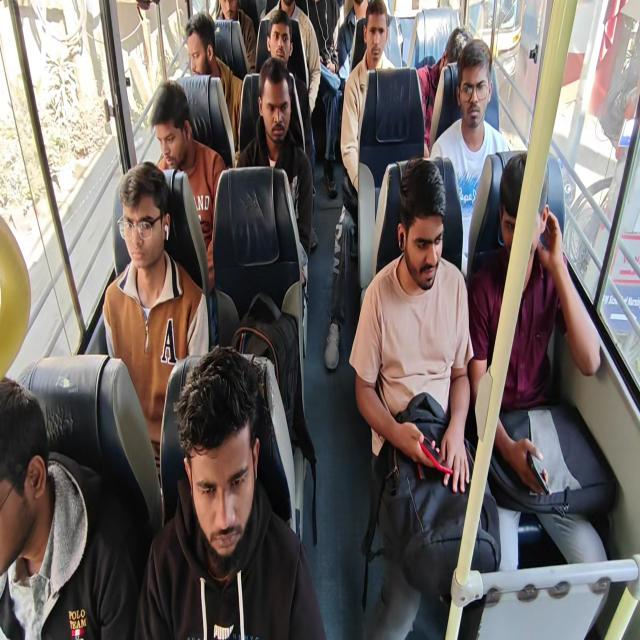person: (168, 350, 260, 556), (1, 369, 49, 575), (396, 155, 458, 301), (492, 148, 560, 280), (116, 158, 176, 283), (145, 80, 209, 172), (261, 46, 298, 158), (459, 45, 499, 127), (262, 1, 292, 70), (182, 11, 212, 73), (364, 4, 388, 72), (447, 29, 471, 70), (217, 0, 241, 27)
